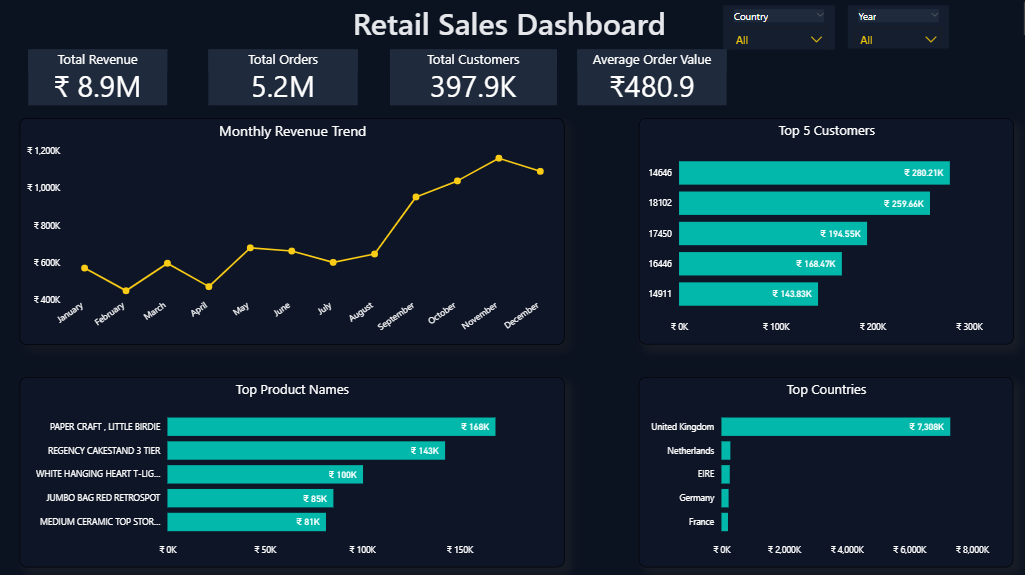

The page's visual inventory and layout, read from the dashboard file:
{"tool":"powerbi","page":{"name":"Overview","canvas":[1280,720],"ordinal":0},"visuals":[{"type":"textbox","box":[0,0,1279.7,54.7],"z":0},{"type":"clusteredBarChart","title":"Top 5 Customers","fields":{"Y":["Sum(cleaned_retail.Revenue)"],"Category":["cleaned_retail.CustomerID"]},"box":[794.1,147.1,460,277.6],"z":1},{"type":"lineChart","title":"Monthly Revenue Trend","fields":{"Y":["Sum(cleaned_retail.Revenue)"],"Category":["cleaned_retail.InvoiceDate.Variation.Date Hierarchy.Month"]},"box":[35.9,146.9,668.8,278.1],"z":2},{"type":"clusteredBarChart","title":"Top Product Names","fields":{"Category":["cleaned_retail.Description"],"Y":["Sum(cleaned_retail.Revenue)"]},"box":[35.1,464.9,668.4,233.3],"z":3},{"type":"clusteredBarChart","title":"Top Countries","fields":{"Y":["Sum(cleaned_retail.Revenue)"],"Category":["cleaned_retail.Country"]},"box":[794.7,464.9,459.6,233.3],"z":4},{"type":"card","title":"Total Revenue","fields":{"Values":["Sum(cleaned_retail.Revenue)"]},"box":[45.9,62.4,170.6,68.2],"z":5},{"type":"card","title":"Total Orders","fields":{"Values":["Sum(cleaned_retail.Quantity)"]},"box":[267.1,62.4,183.5,68.2],"z":6},{"type":"card","title":"Total Customers","fields":{"Values":["CountNonNull(cleaned_retail.CustomerID)"]},"box":[489.4,62.4,204.7,68.2],"z":7},{"type":"card","title":"Average Order Value","fields":{"Values":["cleaned_retail.AOV"]},"box":[720,62.4,183.5,68.2],"z":8},{"type":"slicer","fields":{"Values":["cleaned_retail.Country"]},"box":[898.2,8.8,136.8,54.4],"z":9},{"type":"slicer","fields":{"Values":["cleaned_retail.Year"]},"box":[1050.6,9.4,124.7,52.9],"z":10}]}

Visuals, with their boxes in screenshot pixels (x1, y1, x2, y2), scaled from the page's 1280x720 canvas onto the 1025x575 screenshot:
textbox: x1=0 y1=0 x2=1024 y2=44
"Top 5 Customers" clusteredBarChart: x1=636 y1=117 x2=1004 y2=339
"Monthly Revenue Trend" lineChart: x1=29 y1=117 x2=564 y2=339
"Top Product Names" clusteredBarChart: x1=28 y1=371 x2=563 y2=558
"Top Countries" clusteredBarChart: x1=636 y1=371 x2=1004 y2=558
"Total Revenue" card: x1=37 y1=50 x2=173 y2=104
"Total Orders" card: x1=214 y1=50 x2=361 y2=104
"Total Customers" card: x1=392 y1=50 x2=556 y2=104
"Average Order Value" card: x1=577 y1=50 x2=724 y2=104
slicer - cleaned_retail.Country: x1=719 y1=7 x2=829 y2=50
slicer - cleaned_retail.Year: x1=841 y1=8 x2=941 y2=50
